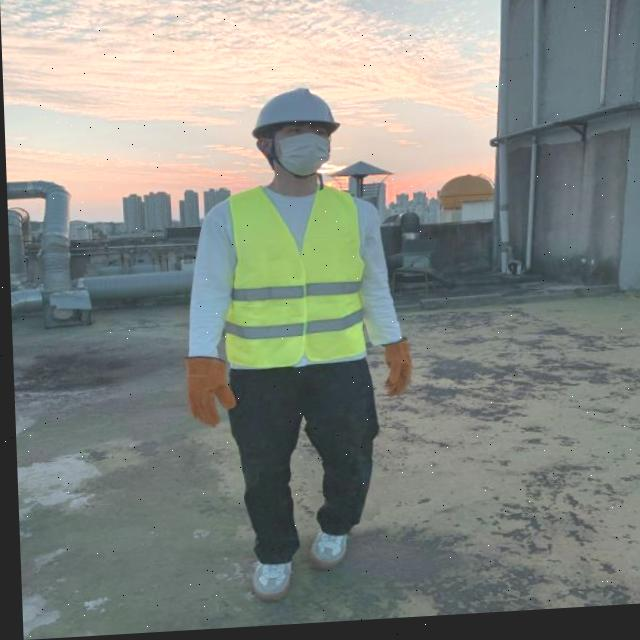Gloves: (182, 355, 235, 430), (380, 341, 411, 402)
Helmet: (249, 89, 340, 142)
Safety-Boot: (247, 561, 290, 605), (305, 531, 346, 573)
Safety-Vest: (218, 183, 369, 374)
